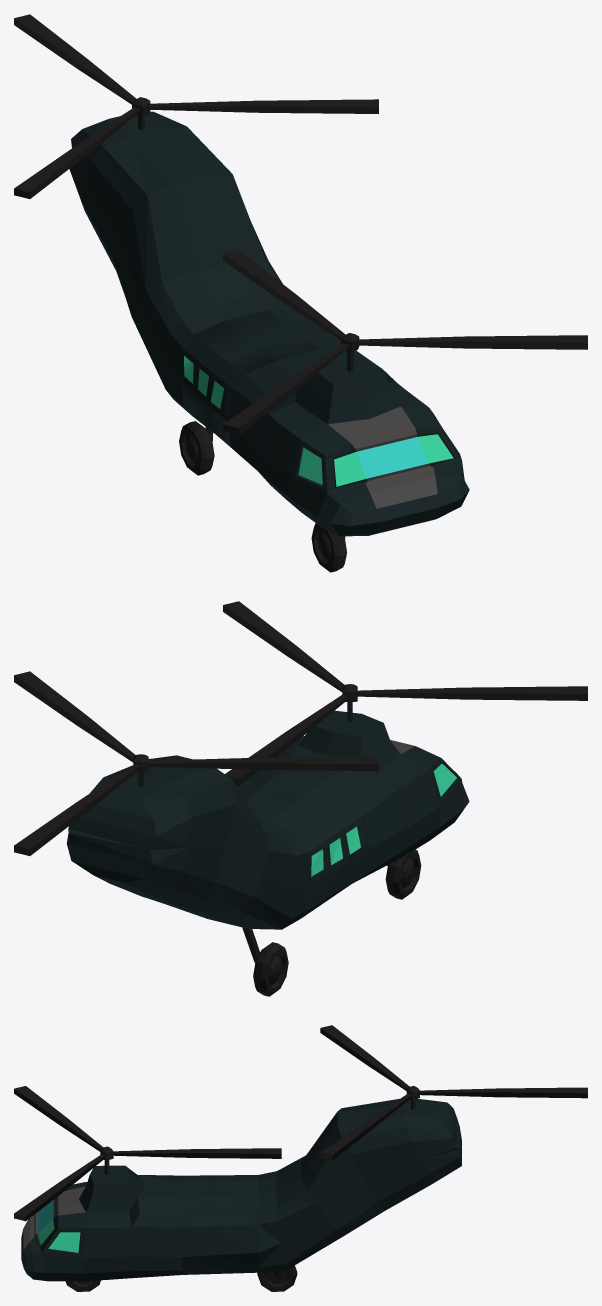
The model's file is OrduUcagi.fbx.
3 views of the same model, one above another, from view 1: azimuth 30°, elevation 25°; view 2: azimuth 150°, elevation 25°; view 3: azimuth 270°, elevation 25° (orthographic). The views are drawn at different scales.
Parts seen in each view (by area): view 1: Military, Buyuk_Pervane001, Buyuk_Pervane002; view 2: Military, Buyuk_Pervane002, Buyuk_Pervane001; view 3: Military, Buyuk_Pervane001, Buyuk_Pervane002.
Part boxes in pixels (x1=…): Military: x1=69, y1=111, x2=469, y2=572; Buyuk_Pervane001: x1=223, y1=250, x2=587, y2=434; Buyuk_Pervane002: x1=14, y1=14, x2=378, y2=198; Military: x1=66, y1=710, x2=469, y2=996; Buyuk_Pervane002: x1=14, y1=671, x2=378, y2=855; Buyuk_Pervane001: x1=223, y1=601, x2=587, y2=785; Military: x1=21, y1=1098, x2=461, y2=1291; Buyuk_Pervane001: x1=14, y1=1086, x2=281, y2=1221; Buyuk_Pervane002: x1=320, y1=1025, x2=587, y2=1160.
Size of the model in its own units: 197 by 152 by 366.
